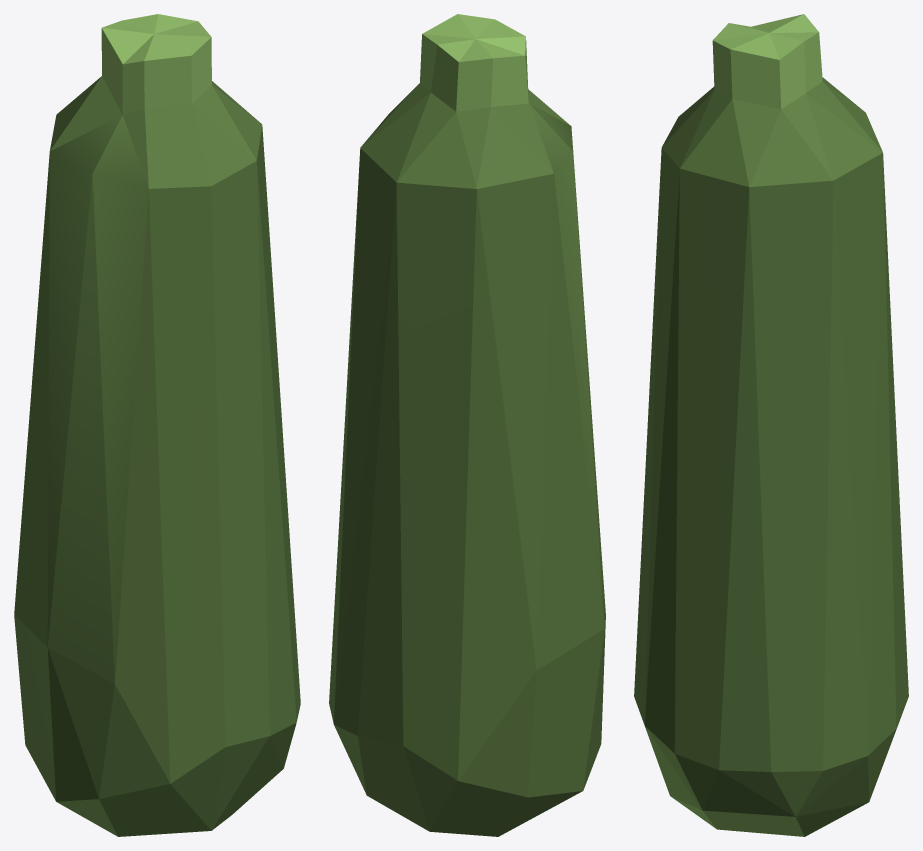
The model's file is Zucchini_01.fbx.
3 renders of one model, left to right at view 1: azimuth 30°, elevation 25°; view 2: azimuth 150°, elevation 25°; view 3: azimuth 270°, elevation 25°, orthographic.
Visible parts, largest first — view 1: Zucchini_01; view 2: Zucchini_01; view 3: Zucchini_01.
Part boxes in pixels (bbox=[...]): Zucchini_01: bbox=[14, 14, 300, 836]; Zucchini_01: bbox=[329, 14, 605, 836]; Zucchini_01: bbox=[634, 14, 908, 836].
Bounding box in the file's own units: 7.33 × 21.95 × 7.06.
